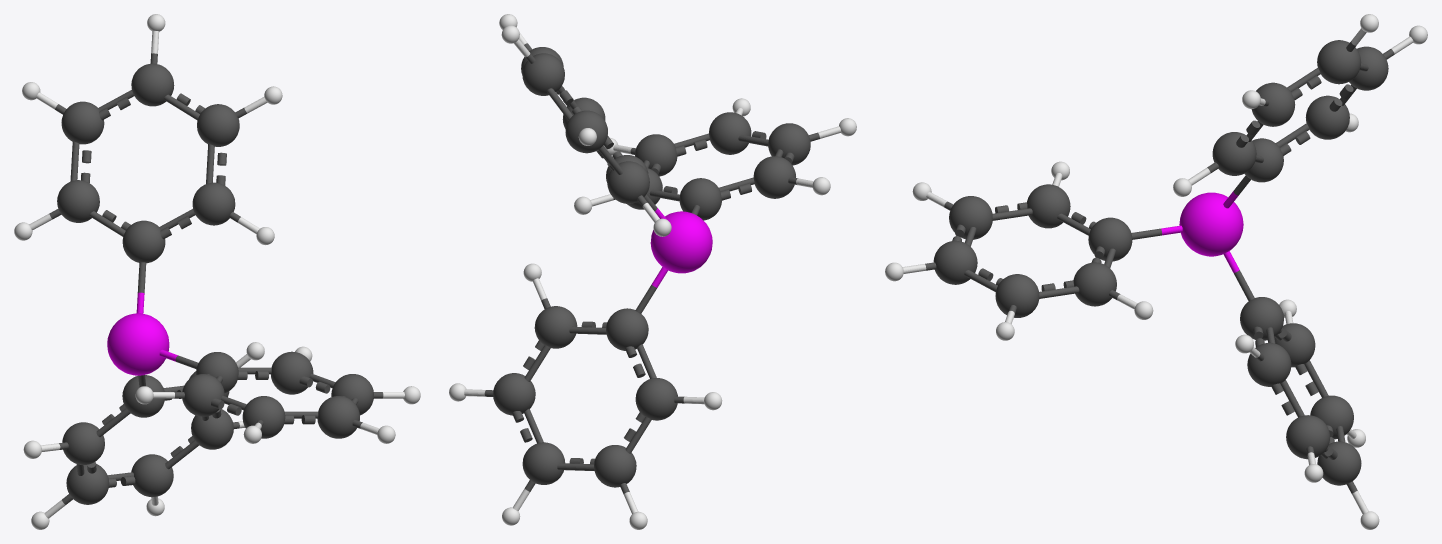
The model's file is triphenylphosphine.fbx.
3 renders of one model, left to right at view 1: azimuth 30°, elevation 25°; view 2: azimuth 150°, elevation 25°; view 3: azimuth 270°, elevation 25°, orthographic. The views are drawn at different scales.
Parts seen in each view (by area): view 1: P01, C14, C16, C20, C13, C15, C18, C31, C03, C09, C26, C25 (+6 smaller); view 2: P01, C03, C05, C09, C02, C25, C04, C07, C20, C31, C15, C24 (+3 smaller); view 3: P01, C20, C31, C26, C07, C25, C29, C04, C15, C14, C24, C27 (+7 smaller).
Part boxes in pixels (x1,y1,x2,y2): P01: (107, 313, 169, 375); C14: (192, 182, 235, 225); C16: (197, 104, 239, 146); C20: (131, 63, 174, 106); C13: (122, 220, 165, 263); C15: (57, 180, 99, 222); C18: (61, 101, 104, 144); C31: (317, 396, 359, 438); C03: (62, 422, 104, 465); C09: (131, 454, 173, 497); C26: (271, 351, 313, 394); C25: (182, 374, 224, 416); P01: (650, 211, 712, 273); C03: (635, 378, 677, 420); C05: (594, 445, 636, 487); C09: (522, 442, 565, 484); C02: (606, 308, 648, 350); C25: (753, 156, 795, 198); C04: (534, 306, 577, 348); C07: (493, 373, 535, 415); C20: (522, 53, 564, 95); C31: (709, 112, 751, 154); C15: (607, 161, 649, 203); C24: (679, 178, 721, 220); P01: (1179, 192, 1243, 256); C20: (1317, 40, 1361, 84); C31: (933, 240, 977, 284); C26: (1073, 262, 1116, 306); C07: (1286, 415, 1330, 459); C25: (1027, 184, 1070, 228); C29: (995, 274, 1039, 317); C04: (1247, 342, 1291, 386); C15: (1305, 95, 1349, 139); C14: (1212, 132, 1256, 175); C24: (1088, 217, 1132, 261); C27: (949, 196, 992, 239).
Bounding box in the file's own units: 523 × 964 × 922.
